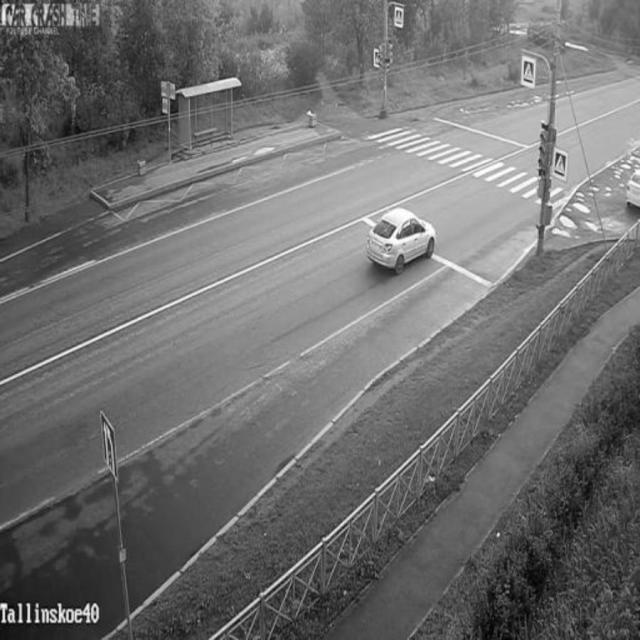vehicle: (367, 209, 435, 266), (626, 168, 640, 210)
